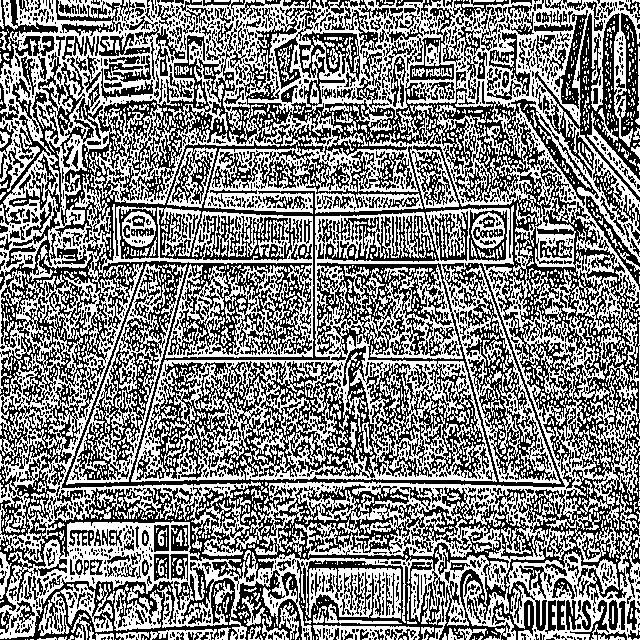left side: (64, 145, 218, 485), (409, 147, 561, 484)
player: (338, 333, 377, 478), (206, 65, 232, 142)
